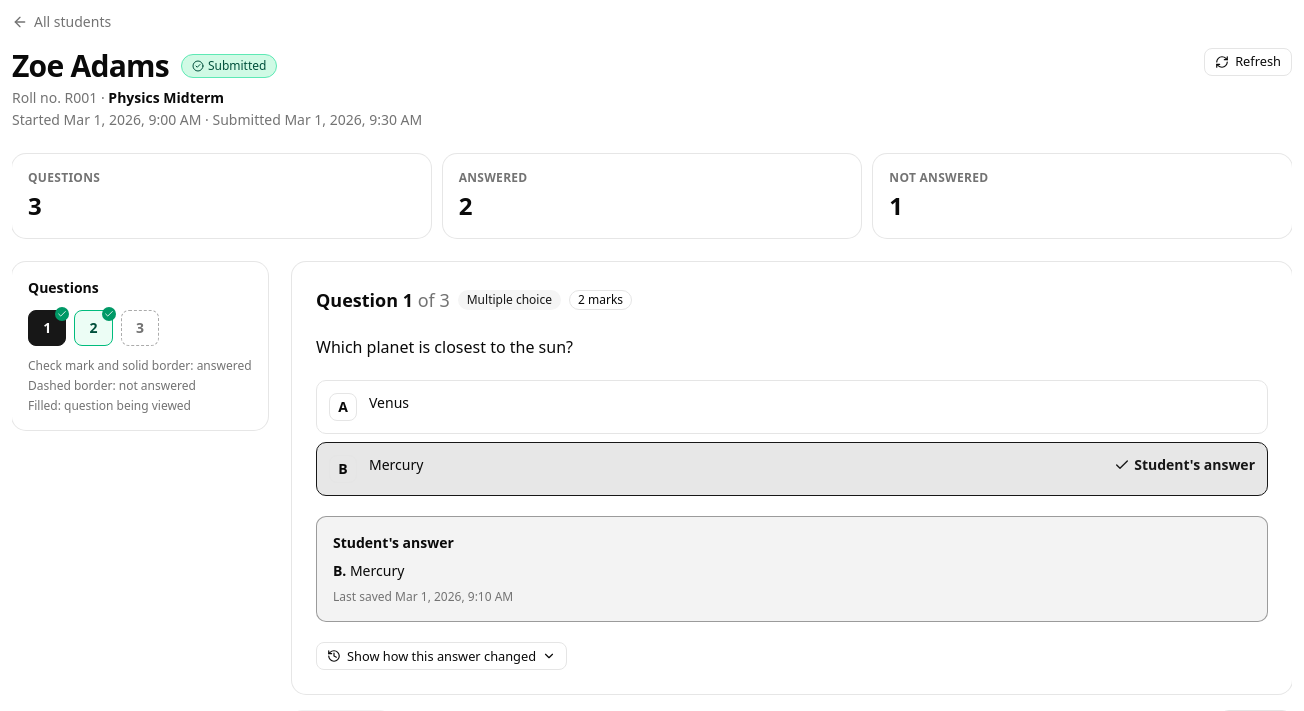
it: StudentResponseReview with recordings › tells the reviewer how a STUDENT_CORRECTION answer came to be
Expected: the text "Which planet is closest to the sun?" is shown, [316, 336, 573, 358]
Click the button named "Question 2": (94,328) [74, 310, 113, 346]
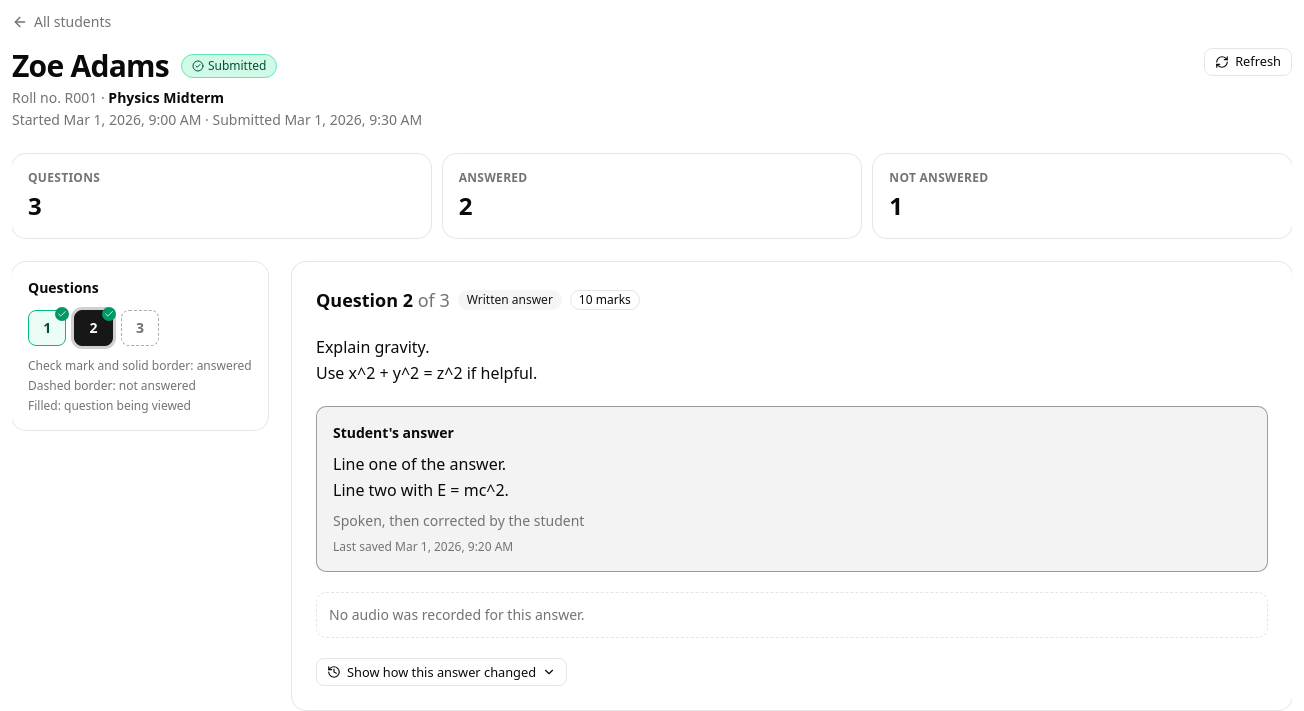
Result: the text with test id "answer-source" shows "corrected by the student" at [333, 511, 584, 530]
